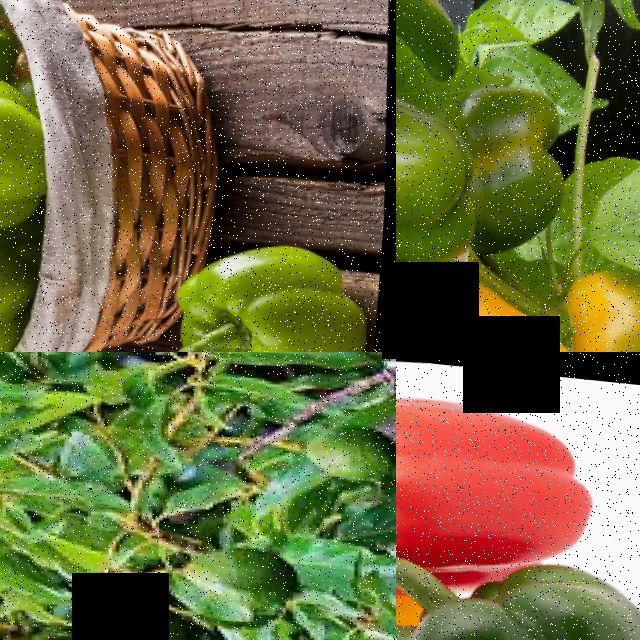avocado: (167, 529, 312, 607), (296, 408, 396, 474), (108, 603, 201, 640)
bell pepper: (396, 354, 605, 586), (396, 523, 640, 640), (173, 214, 377, 352), (396, 51, 507, 244), (487, 61, 585, 236), (397, 272, 603, 352), (0, 52, 49, 216), (572, 255, 640, 352)
